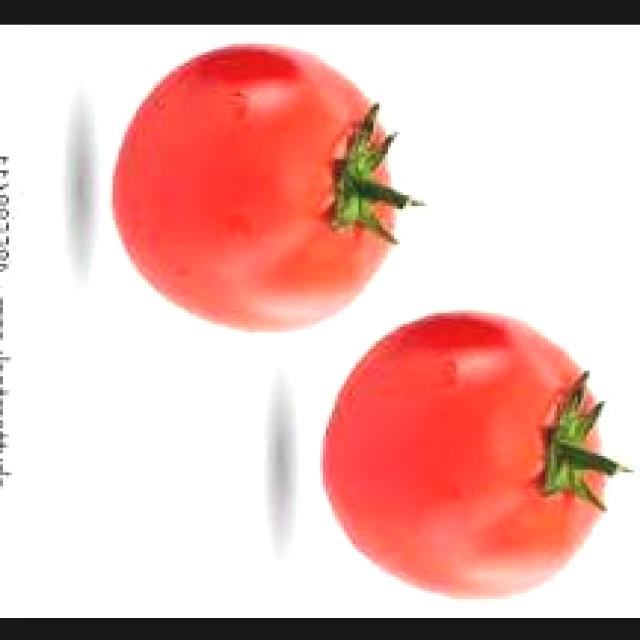tomato: (318, 304, 616, 604), (112, 37, 398, 334)
